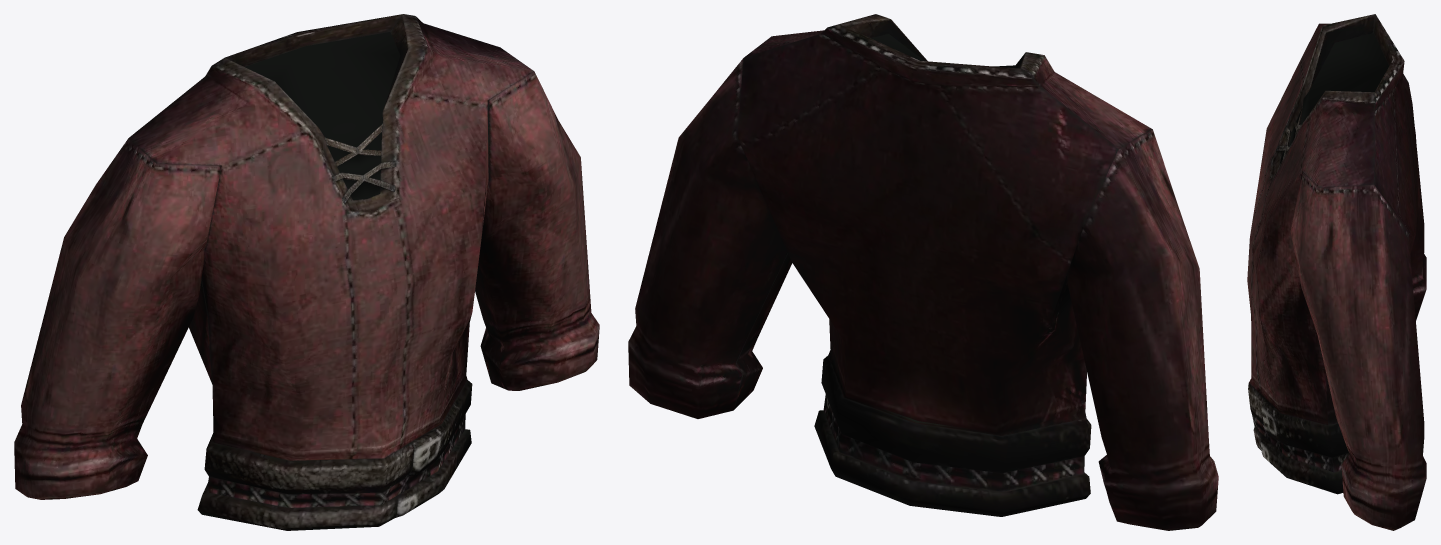
Rendered from STATIC_GS_SLAV_VLK_02_4_KOZA.glb.
3 renders of one model, left to right at view 1: azimuth 30°, elevation 25°; view 2: azimuth 150°, elevation 25°; view 3: azimuth 270°, elevation 25°, orthographic. The views are drawn at different scales.
Visible parts, largest first — view 1: Mesh; view 2: Mesh; view 3: Mesh.
Part boxes in pixels (x1,y1,x2,y2): Mesh: (14, 14, 599, 530); Mesh: (628, 14, 1218, 530); Mesh: (1247, 14, 1426, 530).
Size of the model in its own units: 0.6739 by 0.5009 by 0.2067.
Materials: 1 (1 with a texture image).
